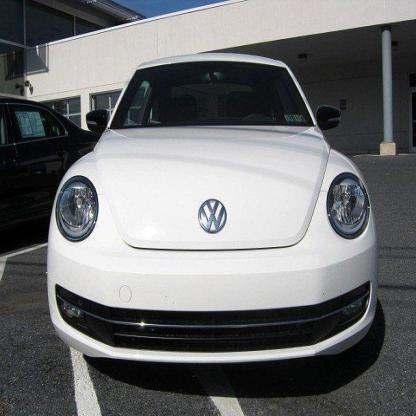Vehicle: (48, 53, 380, 364)
